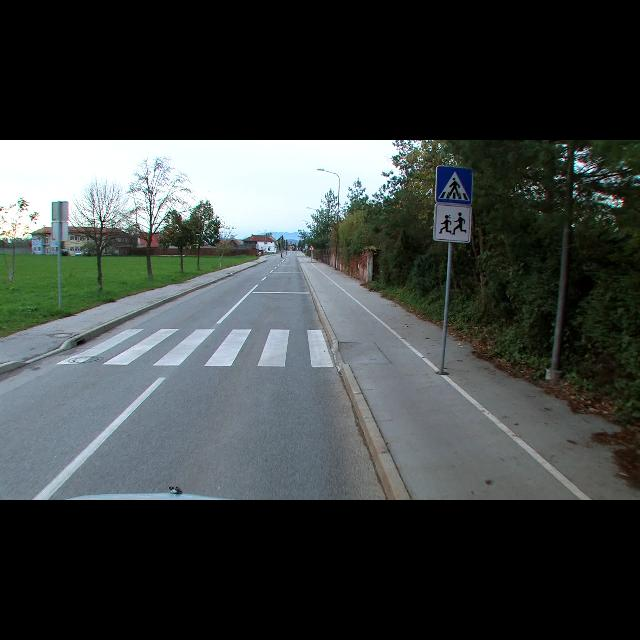Squared: (436, 163, 474, 204), (433, 203, 471, 244)
